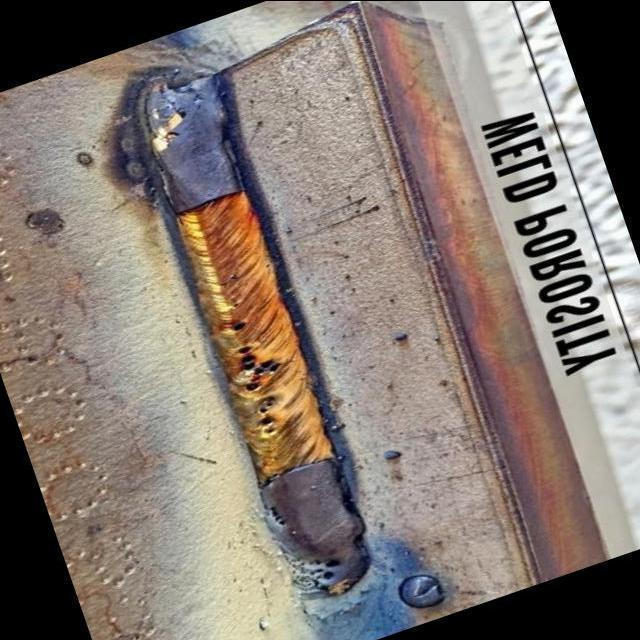defect: (233, 341, 289, 395), (279, 549, 343, 591), (256, 396, 278, 436), (267, 504, 288, 527), (217, 272, 238, 289), (228, 318, 251, 331), (227, 300, 240, 311)
